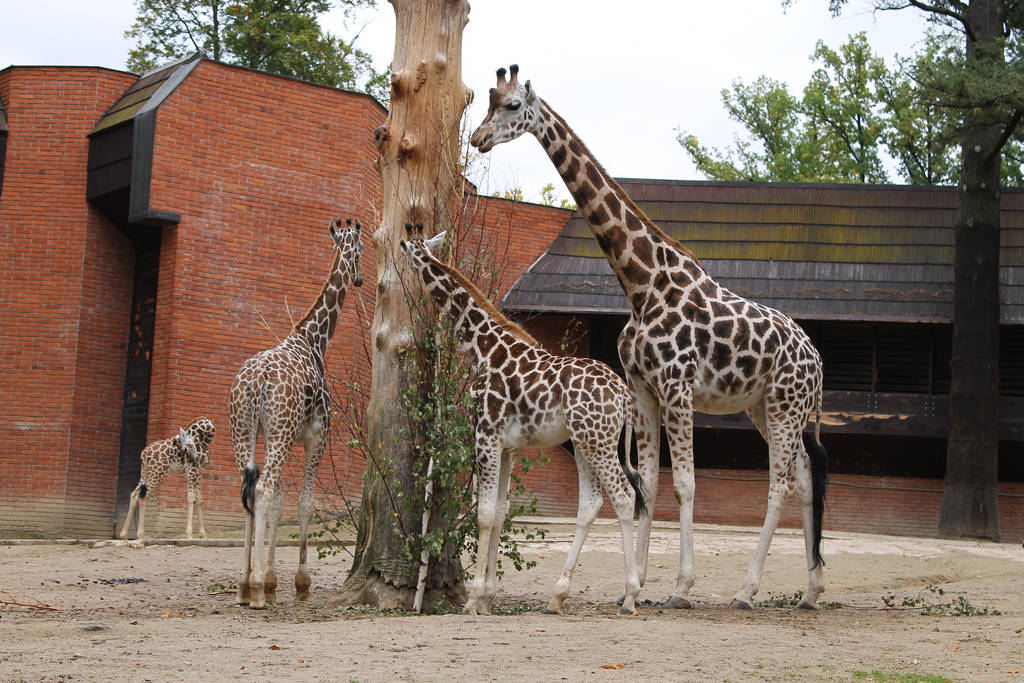giraffe: (481, 60, 844, 601), (388, 203, 647, 625), (219, 199, 383, 612), (115, 387, 231, 550)
